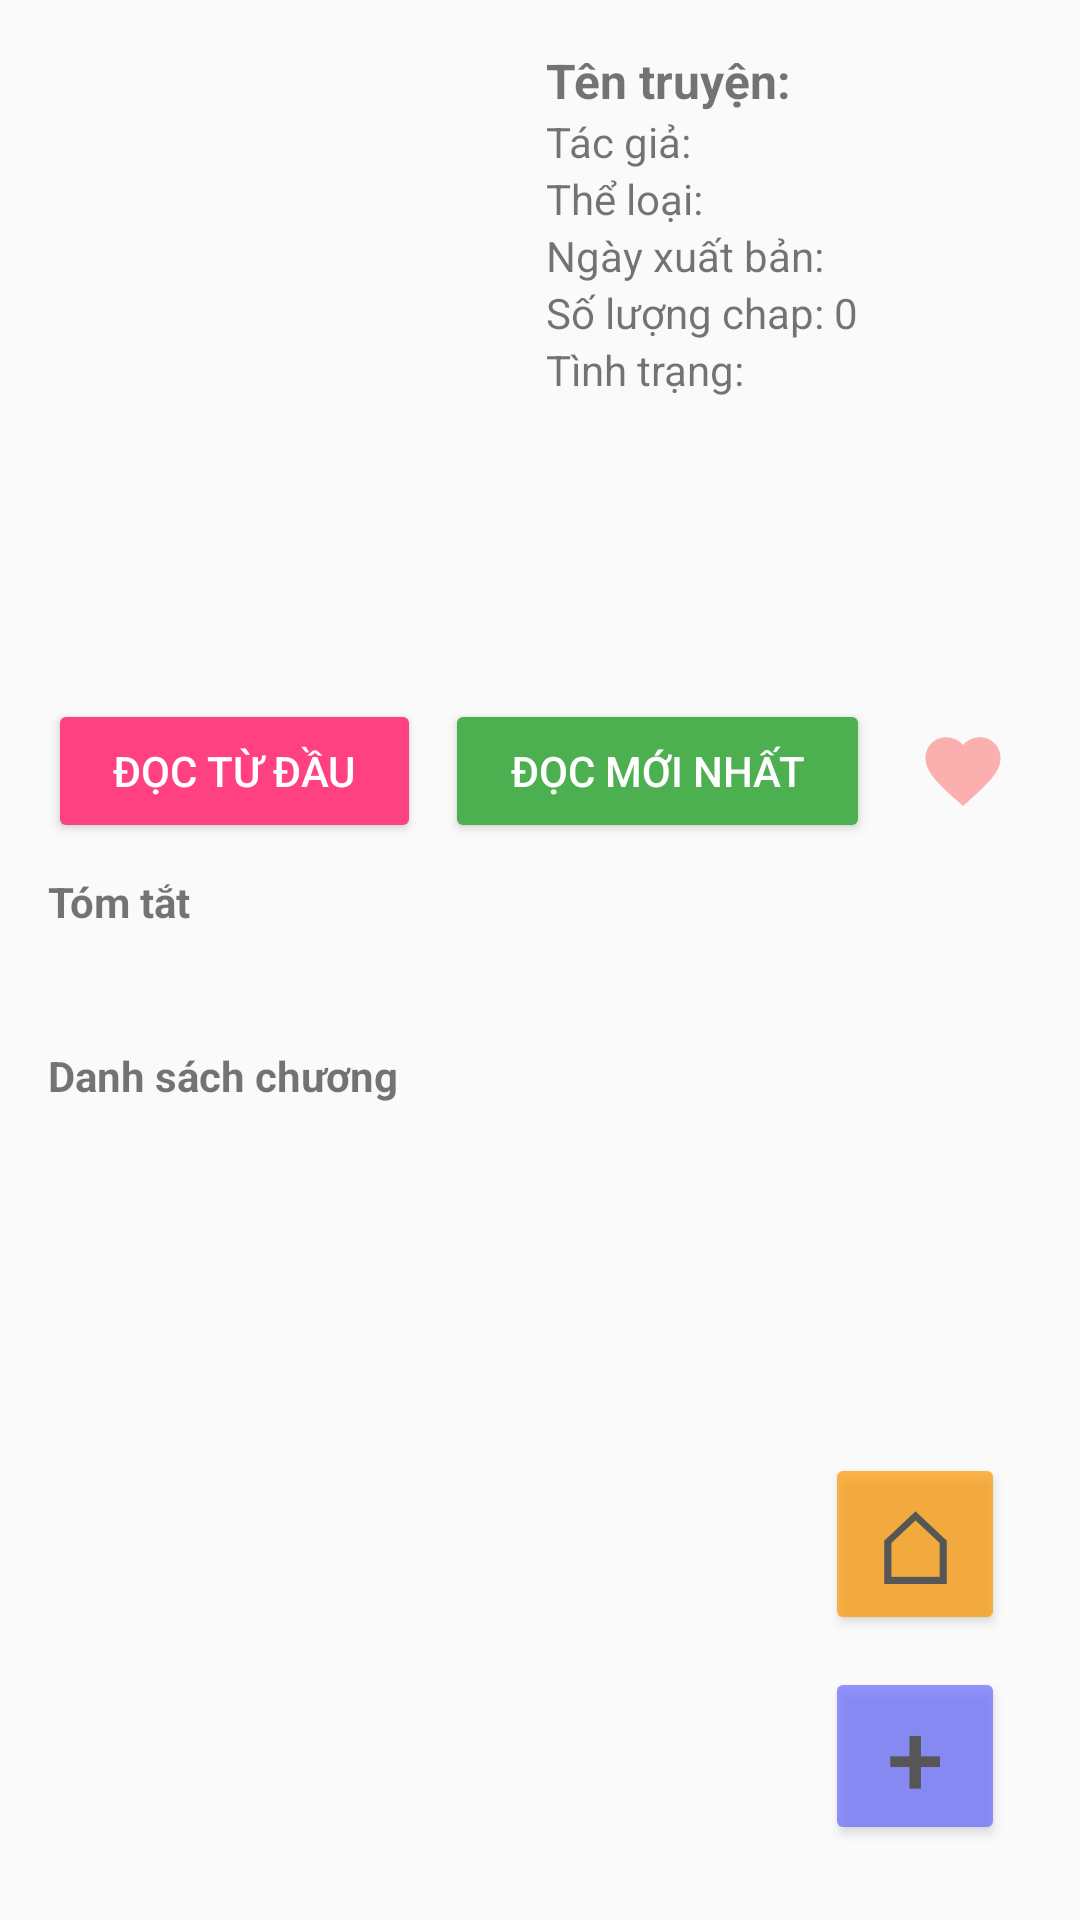

Where icons sit on this 1080px x 1920px app screen, as [left=x1, top=y1, right=x2, bottom=y2]:
Heart Icon: [left=925, top=737, right=1001, bottom=806]
